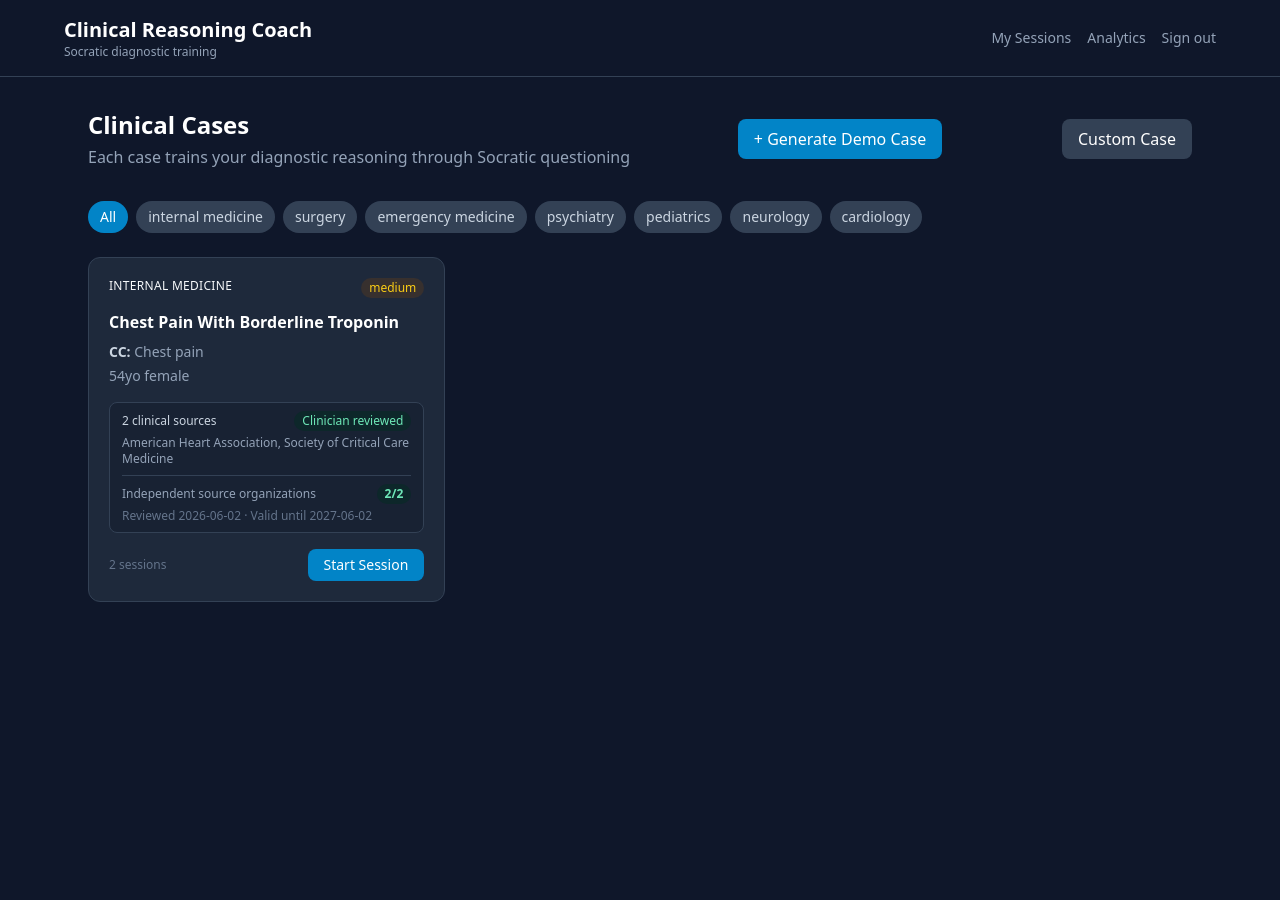
Scenario: CasesPage › shows structured quality gate feedback when session start is blocked server-side
This screenshot has width=1280, height=900.
Click the button "Start Session".
click(366, 565)  # box [308,549,424,581]
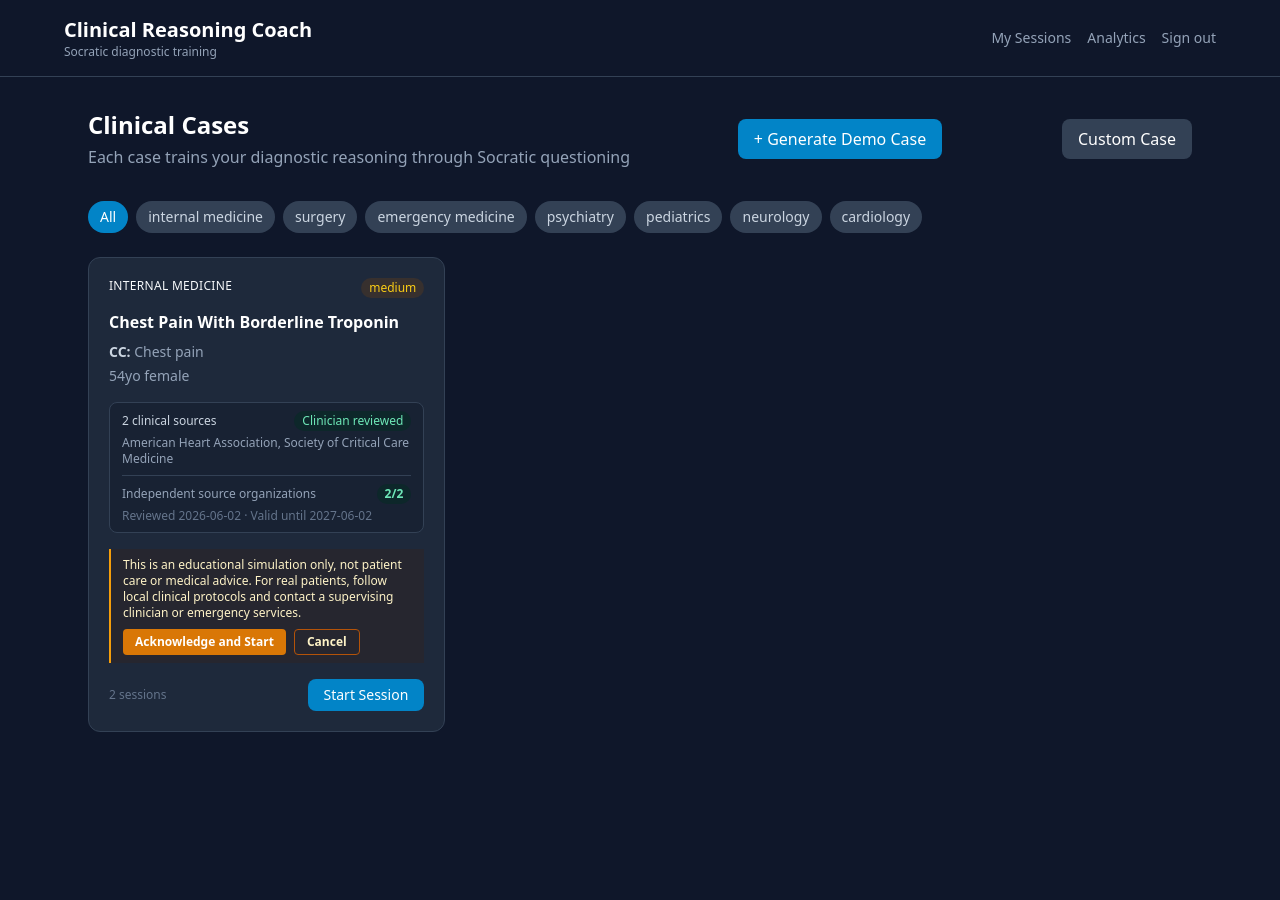
Click the button "Acknowledge and Start".
click(204, 642)  # box [123,629,286,655]
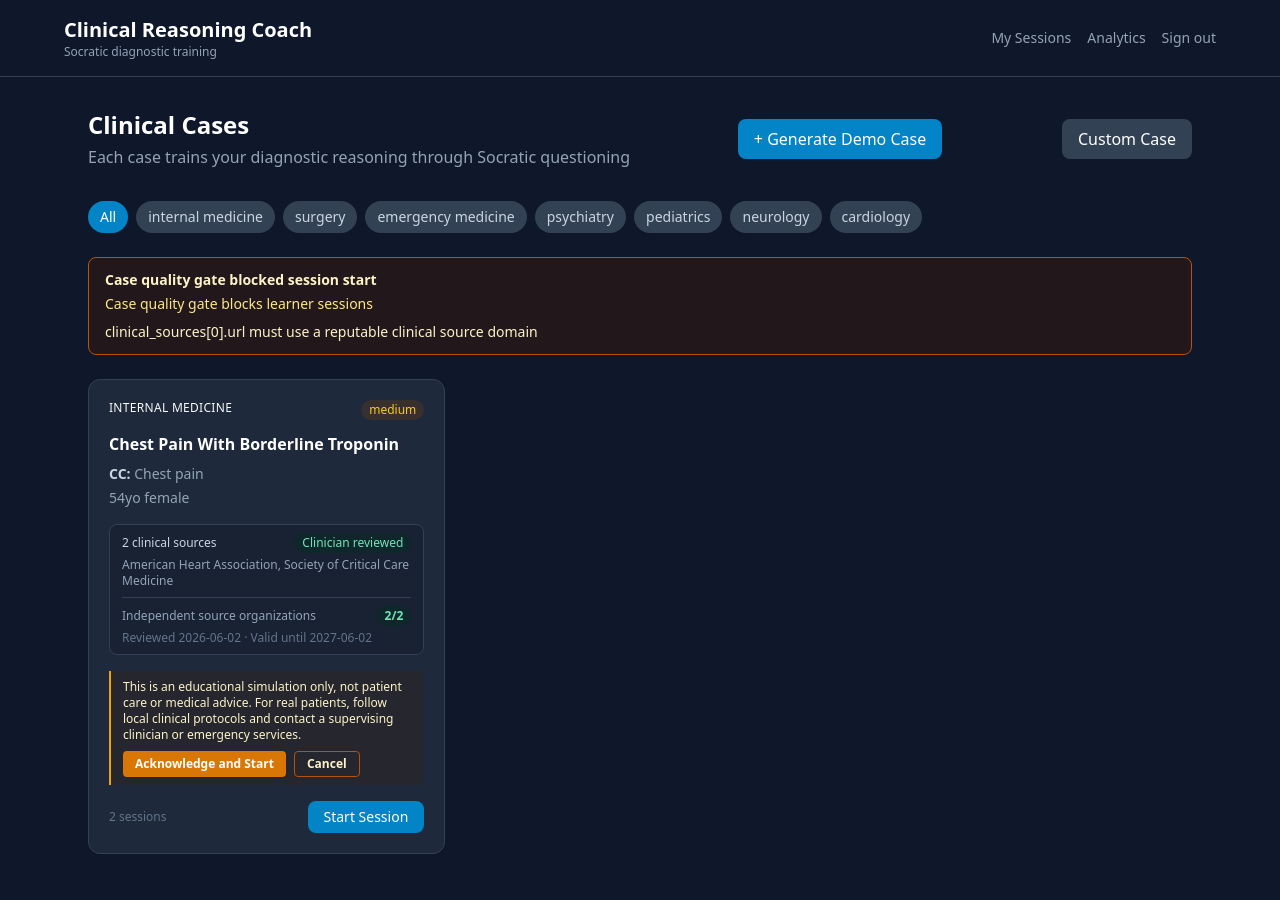
Expected: the text "Case quality gate blocked session start" is shown, [105,270,377,289]
Expected: the text "Case quality gate blocks learner sessions" is shown, [105,294,373,313]
Expected: the list item "reputable clinical source domain" is shown, [105,322,538,341]
